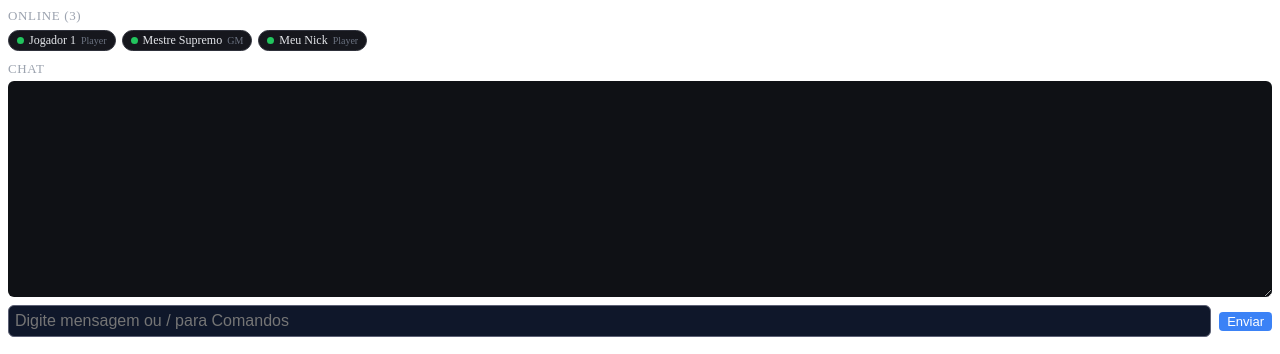
Test: ChatPanel autocomplete › exibe comandos ao digitar / e oculta comandos de GM para jogadores normais
Type "/" into the field with placeholder "Digite mensagem ou / para Comandos".
click(610, 321); type("/")  # box [8, 305, 1211, 337]
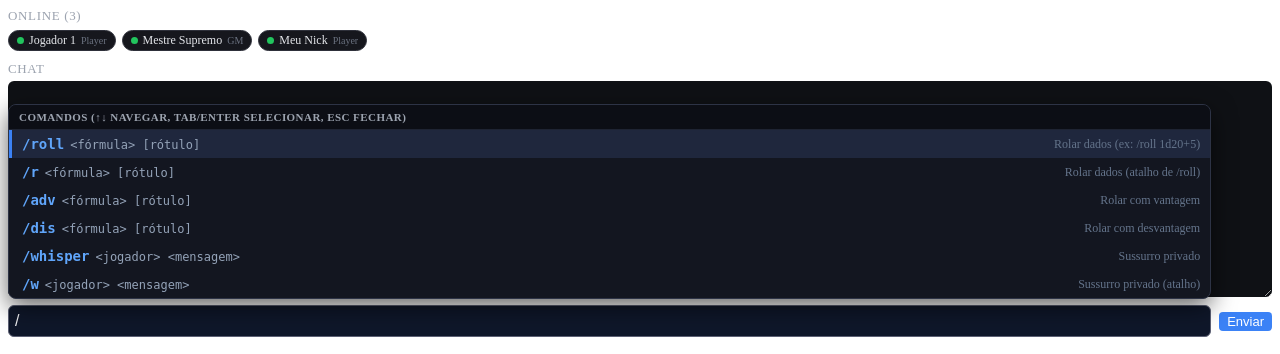
Expected: the text "/roll" is shown, [22, 136, 64, 152]
Expected: the text "/adv" is shown, [22, 192, 56, 208]
Expected: the text "/dis" is shown, [22, 220, 56, 236]
